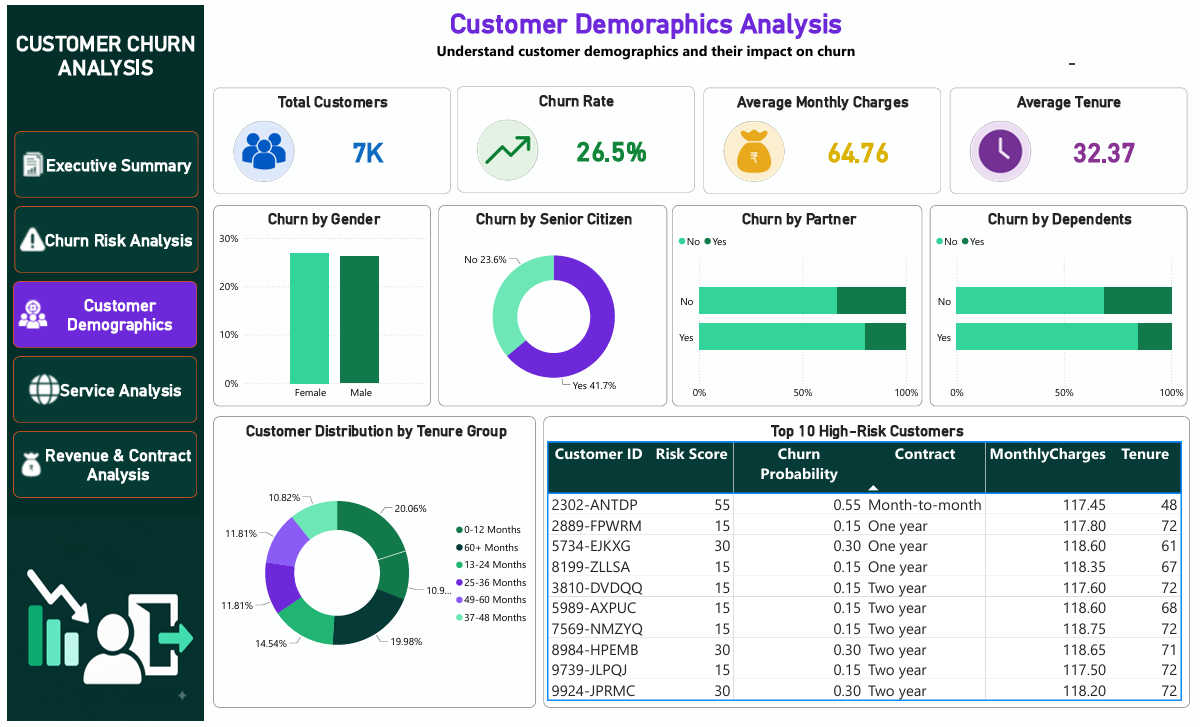

What the dashboard file says about the page in this screenshot:
{"tool":"powerbi","page":{"name":"Customer Demographics","canvas":[1900,1145],"ordinal":2},"visuals":[{"type":"shape","box":[0,0,315,1400],"z":0,"group":"g1"},{"type":"cardVisual","title":"Total Customers","fields":{"Data":["Measure_tbl.Total Customers"]},"box":[330.4,132,380,170],"z":0},{"type":"cardVisual","title":"Churn Rate","fields":{"Data":["Measure_tbl.Churn Rate"]},"box":[720,130,380,170],"z":1000},{"type":"actionButton","box":[12,202,294,106],"z":1000,"group":"g1"},{"type":"cardVisual","title":"Average Monthly Charges","fields":{"Data":["Avg(FactCustomer.MonthlyCharges)"]},"box":[1114.4,132,380,170],"z":2000},{"type":"actionButton","box":[12,322,294,106],"z":2000,"group":"g1"},{"type":"cardVisual","title":"Average Tenure","fields":{"Data":["Measure_tbl.Average Tenure"]},"box":[1508.4,132,380,170],"z":3000},{"type":"actionButton","box":[10,442,294,106],"z":3000,"group":"g1"},{"type":"donutChart","title":"Churn by Senior Citizen","fields":{"Y":["Measure_tbl.Churn Rate"],"Category":["DimCustomer.SeniorCitizen"]},"box":[690,320,366,322],"z":4000},{"type":"actionButton","box":[10,562,294,106],"z":4000,"group":"g1"},{"type":"clusteredColumnChart","title":"Churn by Gender","fields":{"Category":["DimCustomer.gender"],"Y":["Measure_tbl.Churn Rate"]},"box":[330,320,348,322],"z":5000},{"type":"actionButton","box":[10,682,294,106],"z":5000,"group":"g1"},{"type":"donutChart","title":"Customer Distribution by Tenure Group","fields":{"Y":["Measure_tbl.Total Customers"],"Series":["FactCustomer.Risk Level"],"Category":["FactCustomer.Tenure Group"]},"box":[330,658,516,466],"z":6000},{"type":"tableEx","title":"Top 10 High-Risk Customers","fields":{"Values":["DimCustomer.customerID","FactCustomer.Risk Score","Sum(FactCustomer.Churn Probability)","DimContract.Contract","Sum(FactCustomer.MonthlyCharges)","Sum(FactCustomer.tenure)"]},"box":[858,658,1034,466],"z":7000},{"type":"textbox","title":"Customer Demoraphics Analysis","box":[332,4,1380,96],"z":8000},{"type":"hundredPercentStackedBarChart","title":"Churn by Partner","fields":{"Y":["Measure_tbl.Total Customers"],"Category":["DimCustomer.Partner"],"Series":["FactCustomer.Churn"]},"box":[1064,320,400,322],"z":9000},{"type":"hundredPercentStackedBarChart","title":"Churn by Dependents","fields":{"Y":["Measure_tbl.Total Customers"],"Category":["DimCustomer.Dependents"],"Series":["FactCustomer.Churn"]},"box":[1476,320,412,322],"z":10000},{"type":"group","id":"g1","title":"Group 2","box":[0,0,315,1400],"z":11000},{"type":"textbox","box":[0,38,316,116],"z":12000},{"type":"image","box":[0,821,314.5,324.4],"z":13000}]}

Visuals, with their boxes in screenshot pixels (x1, y1, x2, y2), scaled from the page's 1900x1145 canvas onto the 1202x727 screenshot:
shape: <box>0,0,199,726</box>
"Total Customers" cardVisual: <box>209,84,449,192</box>
"Churn Rate" cardVisual: <box>455,83,696,190</box>
actionButton: <box>8,128,194,196</box>
"Average Monthly Charges" cardVisual: <box>705,84,945,192</box>
actionButton: <box>8,204,194,272</box>
"Average Tenure" cardVisual: <box>954,84,1195,192</box>
actionButton: <box>6,281,192,348</box>
"Churn by Senior Citizen" donutChart: <box>437,203,668,408</box>
actionButton: <box>6,357,192,424</box>
"Churn by Gender" clusteredColumnChart: <box>209,203,429,408</box>
actionButton: <box>6,433,192,500</box>
"Customer Distribution by Tenure Group" donutChart: <box>209,418,535,714</box>
"Top 10 High-Risk Customers" tableEx: <box>543,418,1197,714</box>
"Customer Demoraphics Analysis" textbox: <box>210,3,1083,63</box>
"Churn by Partner" hundredPercentStackedBarChart: <box>673,203,926,408</box>
"Churn by Dependents" hundredPercentStackedBarChart: <box>934,203,1194,408</box>
"Group 2" group: <box>0,0,199,726</box>
textbox: <box>0,24,200,98</box>
image: <box>0,521,199,726</box>
